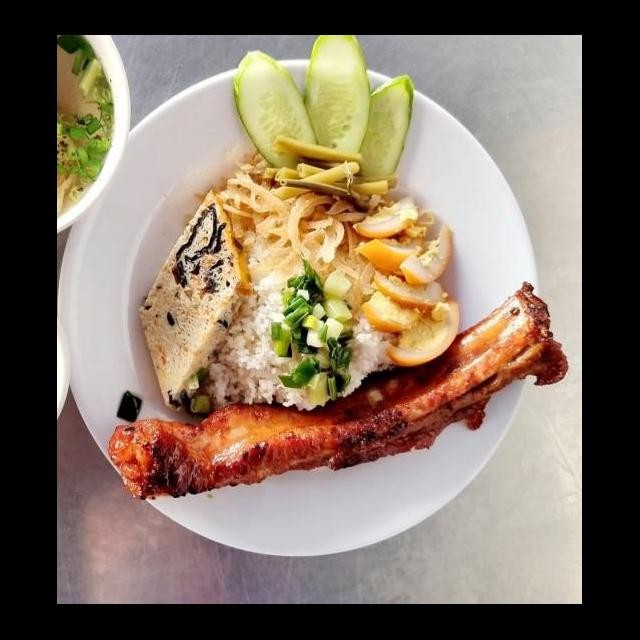cha: (134, 185, 256, 418)
com: (202, 228, 402, 416)
com suon bi cha trung: (85, 75, 567, 557)
dua chua: (182, 132, 402, 282)
suon: (106, 280, 574, 506)
trung: (350, 192, 462, 370)
